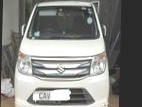car: (10, 0, 114, 107)
